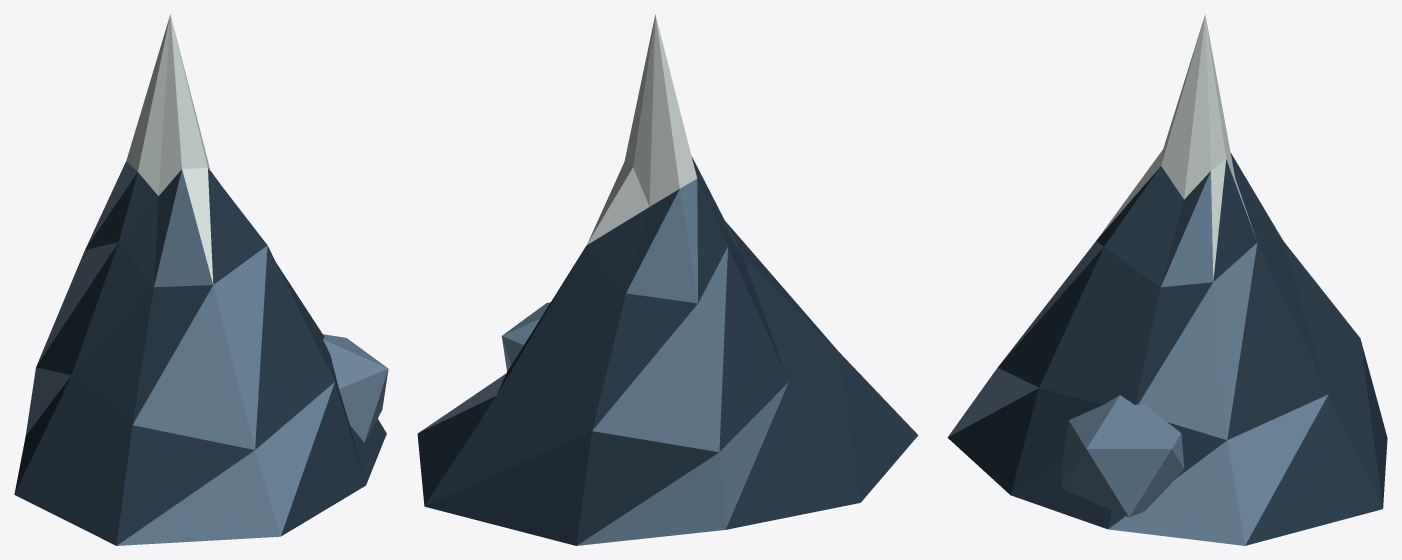
The model's file is Mountain_B.fbx.
The picture shows the model from 3 angles, left to right: view 1: azimuth 30°, elevation 25°; view 2: azimuth 150°, elevation 25°; view 3: azimuth 270°, elevation 25°; orthographic projection. The views are drawn at different scales.
Parts seen in each view (by area): view 1: Mountain_B; view 2: Mountain_B; view 3: Mountain_B.
Boxes of the visible parts, left/top/right/bottom form: Mountain_B: left=14, top=14, right=388, bottom=545; Mountain_B: left=417, top=14, right=918, bottom=545; Mountain_B: left=947, top=15, right=1387, bottom=545.
Bounding box in the file's own units: 5 × 5.7 × 5.
